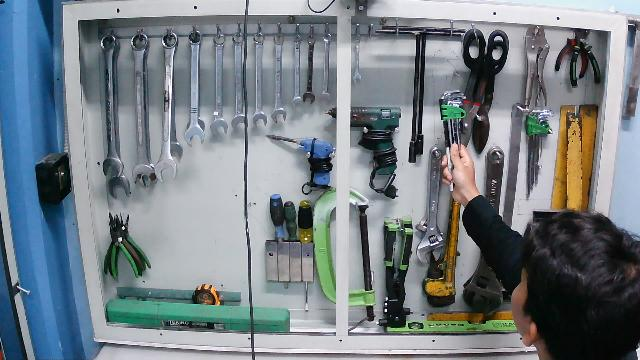kunci_l: (433, 87, 473, 193)
